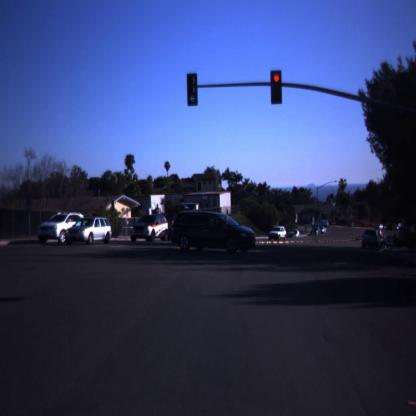trafficlight: (268, 68, 283, 105), (185, 71, 200, 108)
